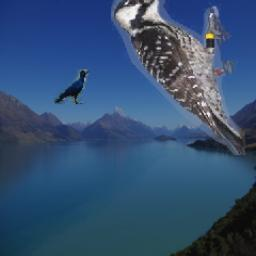Crow: (54, 69, 89, 104)
Woodpecker: (111, 0, 245, 155)
